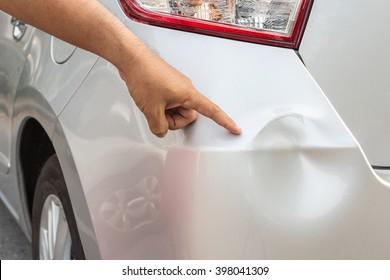rear-bumper-dent: (62, 106, 389, 263)
